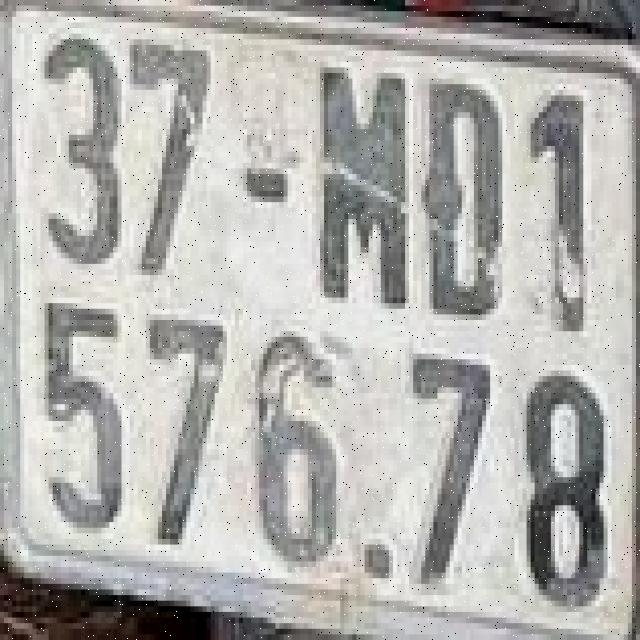1: (522, 84, 600, 337)
3: (36, 31, 126, 267)
5: (35, 292, 132, 533)
6: (247, 323, 348, 570)
7: (399, 342, 496, 590), (142, 306, 231, 547), (128, 34, 212, 275)
8: (518, 359, 616, 606)
D: (418, 73, 514, 326)
M: (312, 53, 413, 306)
